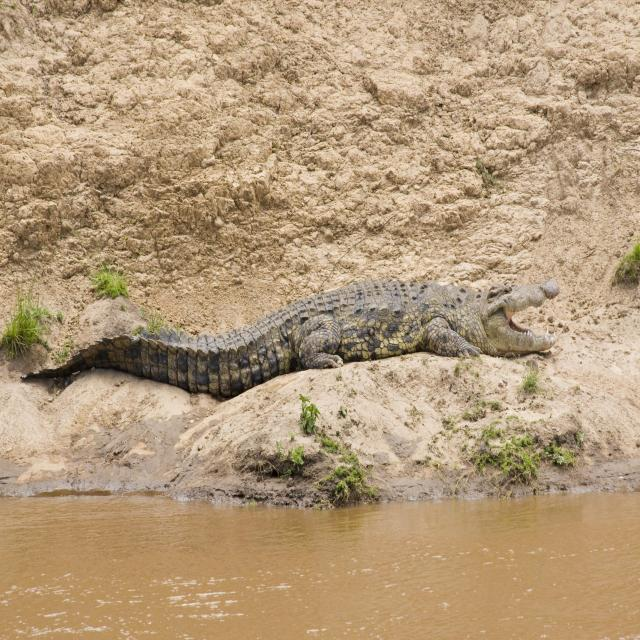crocodile: (19, 240, 587, 434)
